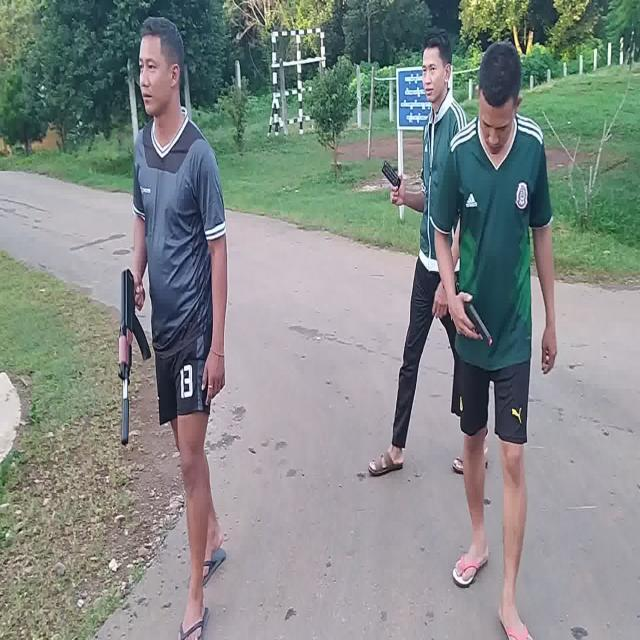gun: (119, 268, 151, 444), (466, 303, 493, 348)
